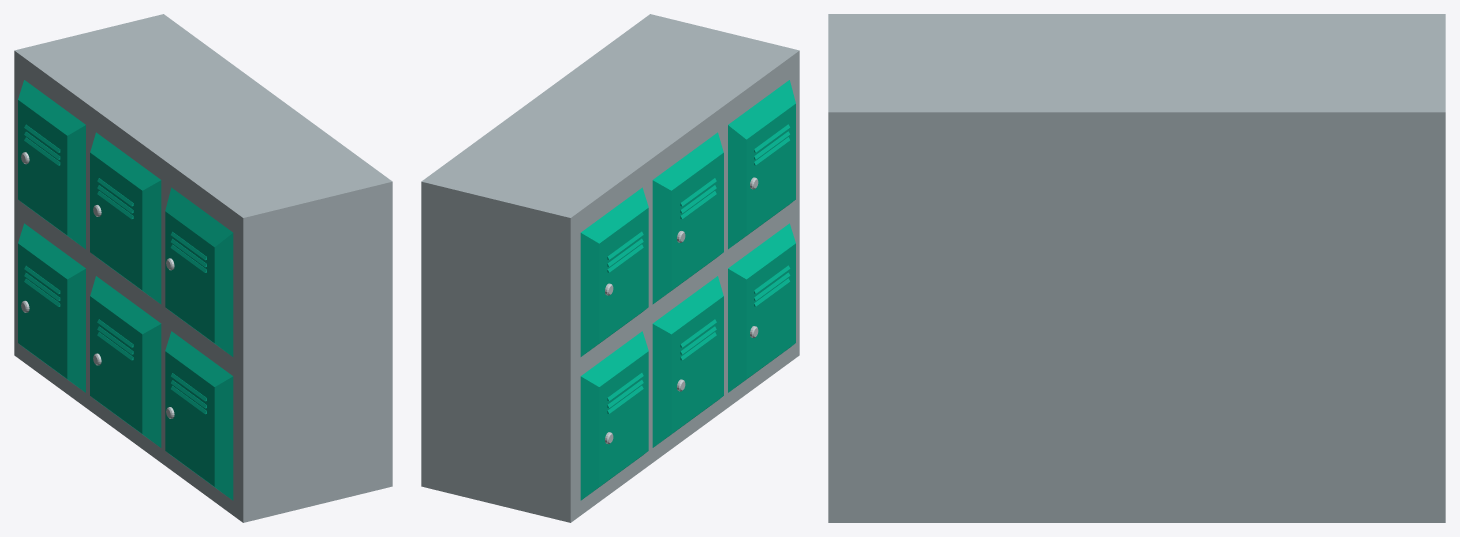
File: Locker 6 doors.fbx
3 renders of one model, left to right at view 1: azimuth 30°, elevation 25°; view 2: azimuth 150°, elevation 25°; view 3: azimuth 270°, elevation 25°, orthographic. The views are drawn at different scales.
Parts seen in each view (by area): view 1: polySurface13, polySurface17, polySurface14, polySurface16, polySurface19, polySurface15, polySurface25; view 2: polySurface13, polySurface17, polySurface14, polySurface15, polySurface25, polySurface16, polySurface19; view 3: polySurface13.
Boxes of the visible parts, x1,y1,x2,y2 form: polySurface13: (14,14,392,522); polySurface17: (90,132,161,304); polySurface14: (90,276,161,447); polySurface16: (165,331,233,500); polySurface19: (165,187,233,356); polySurface15: (18,80,85,249); polySurface25: (18,223,85,392); polySurface13: (421,14,799,522); polySurface17: (652,132,723,304); polySurface14: (652,276,723,447); polySurface15: (580,187,648,356); polySurface25: (580,331,648,500); polySurface16: (728,223,795,392); polySurface19: (728,80,795,249); polySurface13: (828,14,1445,522).
Size of the model in its own units: 1.1 by 1.95 by 2.65.
1 material, 1 textured.
